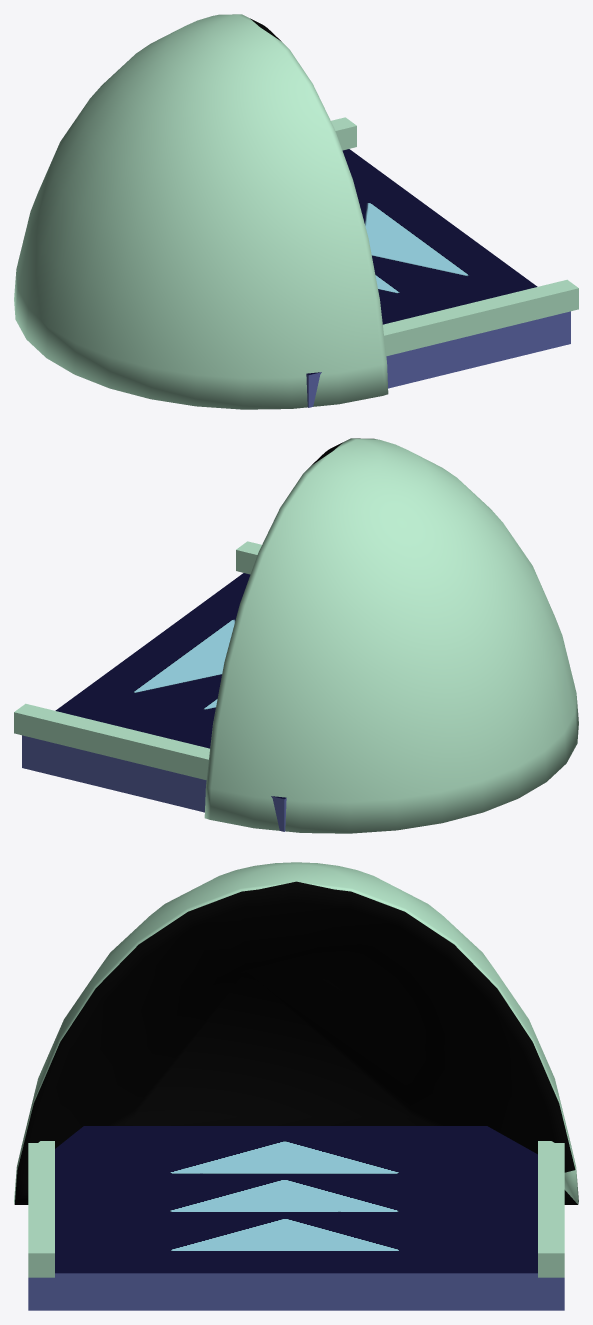
File: conveerUnderground.fbx
3 renders of one model, top to bottom at view 1: azimuth 30°, elevation 25°; view 2: azimuth 150°, elevation 25°; view 3: azimuth 270°, elevation 25°, orthographic. The views are drawn at different scales.
Visible parts, largest first — view 1: Sphere, Cube, Cube.001, Cube.002; view 2: Sphere, Cube, Cube.002, Cube.001; view 3: Sphere, Cube, Cube.001, Cube.002.
Part boxes in pixels (<box>): Sphere: <box>14,14,388,409</box>; Cube: <box>306,149,570,407</box>; Cube.001: <box>383,279,578,356</box>; Cube.002: <box>331,117,356,150</box>; Sphere: <box>204,438,578,833</box>; Cube: <box>22,573,286,831</box>; Cube.002: <box>14,703,209,780</box>; Cube.001: <box>236,541,261,574</box>; Sphere: <box>14,862,578,1204</box>; Cube: <box>28,1126,564,1310</box>; Cube.001: <box>28,1141,54,1277</box>; Cube.002: <box>538,1141,564,1277</box>.
Bounding box in the file's own units: 206 × 132 × 211.
4 materials, 1 textured.
